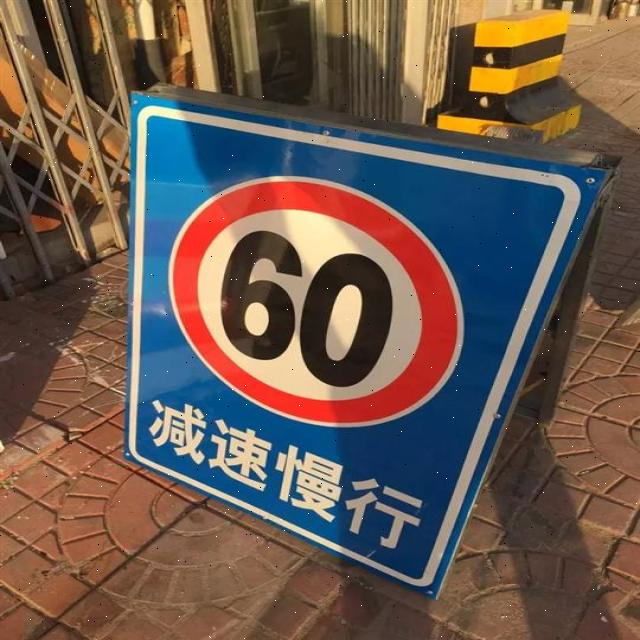speed limit 60: (167, 174, 464, 427)
